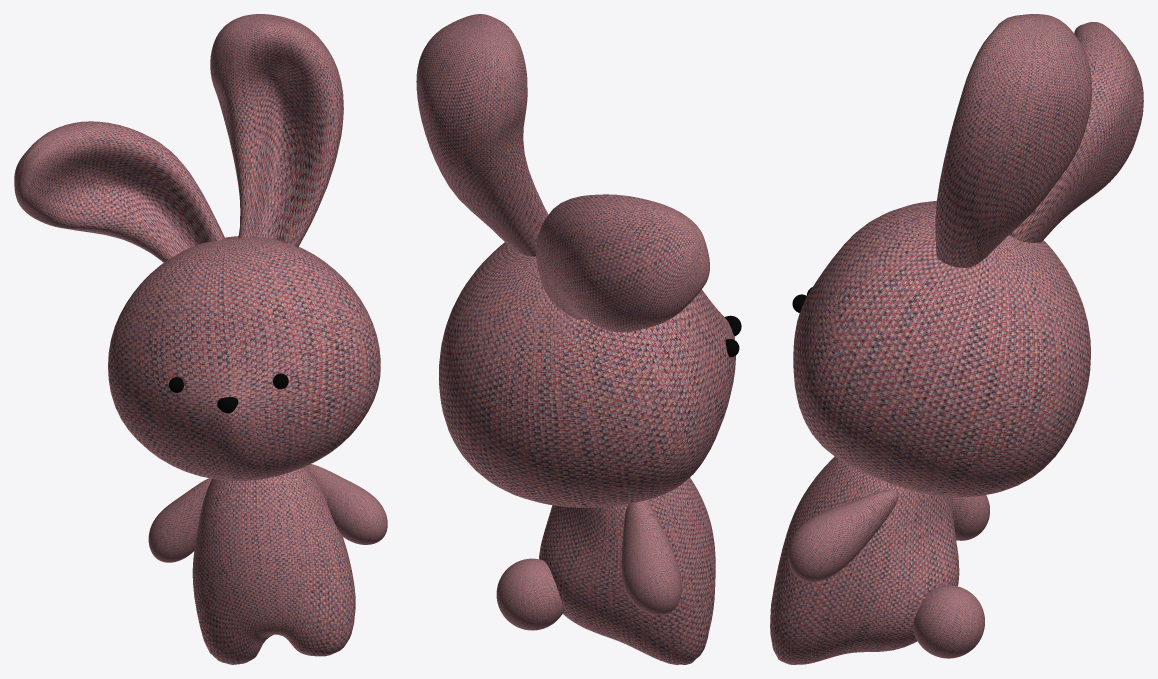
Rendered from Conejo.fbx.
3 views of the same model, side by side, from view 1: azimuth 30°, elevation 25°; view 2: azimuth 150°, elevation 25°; view 3: azimuth 270°, elevation 25° (orthographic). The views are drawn at different scales.
Visible parts, largest first — view 1: Conejo, Conejo.001; view 2: Conejo; view 3: Conejo.
Boxes of the visible parts, box(x1,y1,x2,y2) form: Conejo: box(14, 14, 387, 664); Conejo.001: box(169, 373, 288, 413); Conejo: box(416, 14, 735, 664); Conejo: box(770, 14, 1143, 664).
Bounding box in the file's own units: 156 × 306 × 153.
